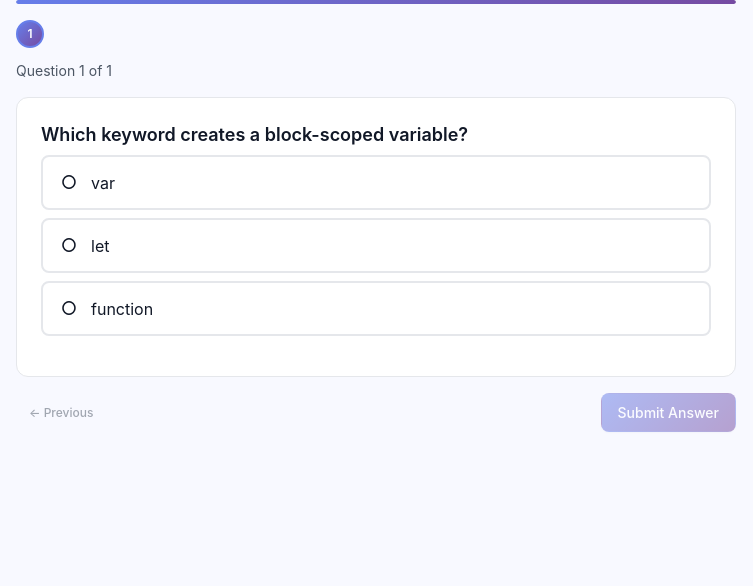
Test: QuizPanel › shows Ask AI Coach button after submit when model is selected
Click the button "○ let" at (69, 246), box [41,218,711,273]
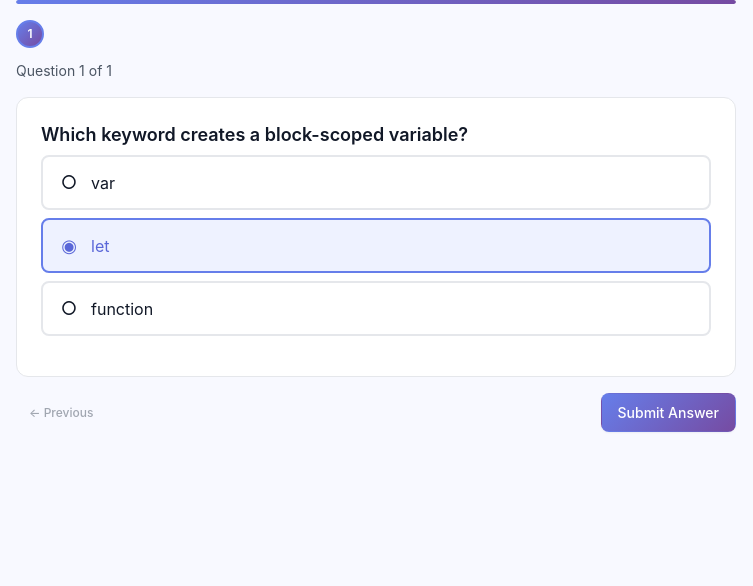
Click the button "Submit Answer" at (668, 413), box [600,393,736,432]
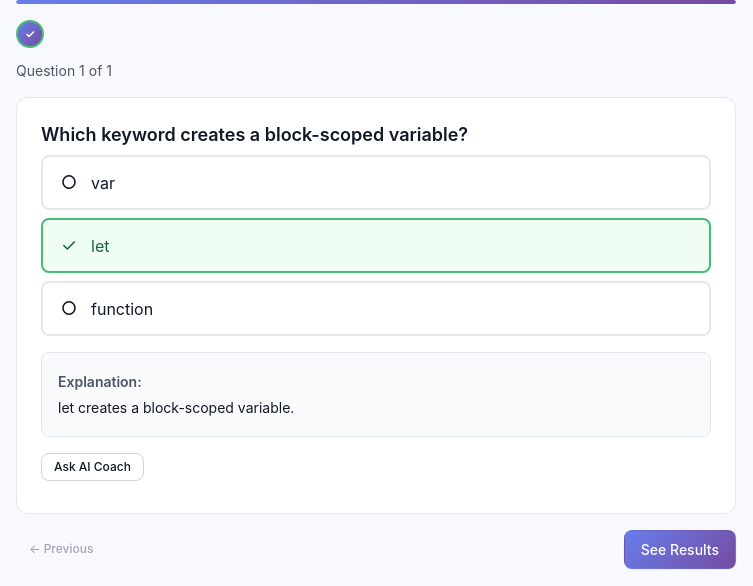
Expected: the button "Ask AI Coach" is shown, [41,453,144,481]
